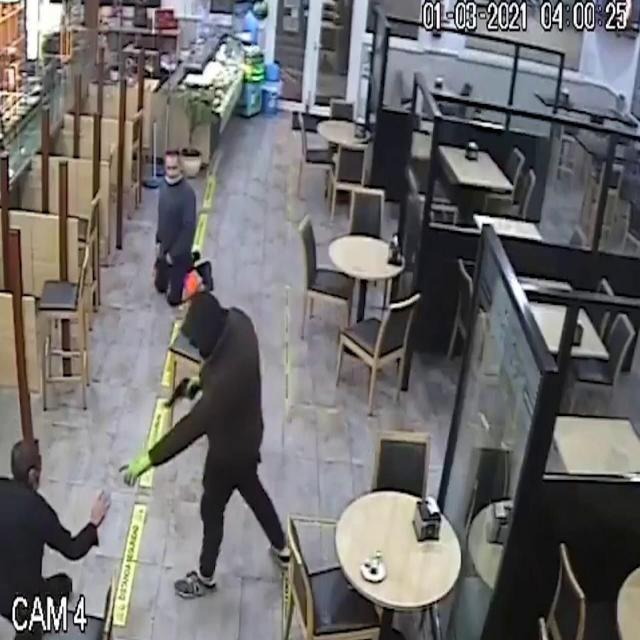weapon: (154, 367, 207, 424)
